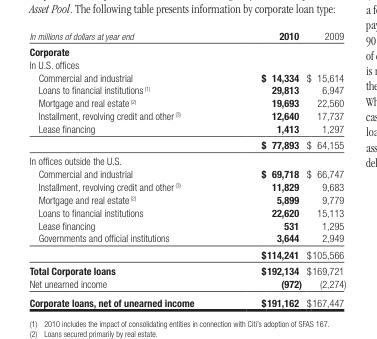table: (28, 28, 345, 308)
table column: (28, 28, 226, 308), (226, 28, 303, 308), (303, 28, 345, 308)
table column header: (28, 28, 345, 42)
table projected row header: (28, 42, 345, 57), (28, 152, 345, 166), (28, 57, 345, 70)
table row: (28, 245, 345, 262), (28, 136, 345, 152), (28, 276, 345, 292), (28, 292, 345, 308), (28, 42, 345, 57), (28, 121, 345, 136), (28, 28, 345, 42), (28, 152, 345, 166), (28, 231, 345, 245), (28, 262, 345, 276), (28, 57, 345, 70), (28, 70, 345, 83), (28, 83, 345, 96), (28, 108, 345, 121), (28, 166, 345, 179), (28, 179, 345, 192), (28, 192, 345, 205), (28, 205, 345, 218), (28, 218, 345, 231), (28, 96, 345, 108)
